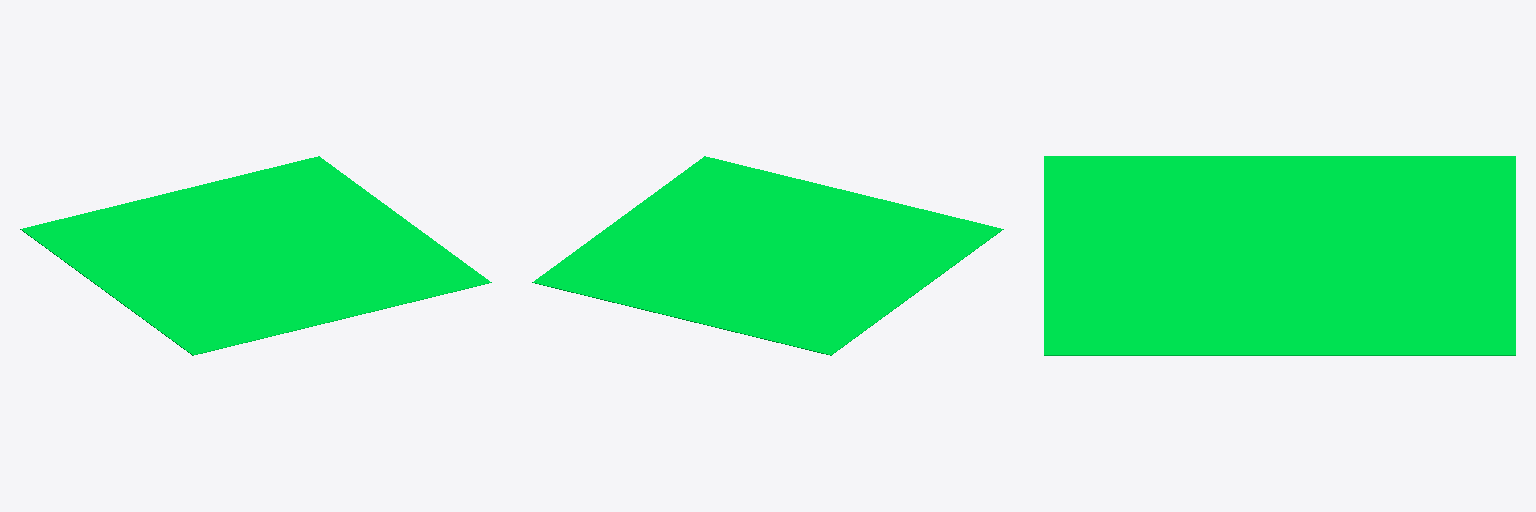
robot.urdf — hook_mark:
<?xml version="0.0" ?>
<robot name="hook_mark">
  <link name="hook_mark">
    <contact>
      <lateral_friction value="0.7"/>
      <rolling_friction value="0.0"/>
      <contact_cfm value="0.0"/>
      <contact_erp value="0.1"/>
    </contact>
    <inertial>
      <origin rpy="0 0 0" xyz="0 0 0"/>
       <mass value=".01"/>
       <inertia ixx=".01" ixy="0" ixz="0" iyy=".01" iyz="0" izz=".01"/>
    </inertial>
    <visual>
      <origin rpy="0 0 0" xyz="0.0 0.0 0.0"/>
      <geometry>
        <box size="0.5 0.5 0.001"/>
      </geometry>
      <material name="desert sand">
        <color rgba="0 1 0.365 1" />
      </material>
    </visual>
    <collision>
      <origin rpy="0 0 0" xyz="0.0 0.0 0.0"/>
      <geometry>
        <box size="0.5 0.5 0.001"/>
      </geometry>
    </collision>
  </link>


</robot>

--- What the picture shows (computed from the rendered views, not written in the file) ---
3 views of the same robot in one strip: view 1: azimuth 30°, elevation 25°; view 2: azimuth 150°, elevation 25°; view 3: azimuth 270°, elevation 25° (orthographic).
Model hook_mark with 1 links and 0 joints (none), rooted at hook_mark, posed all joints at 0.
Links seen in each view (by area): view 1: hook_mark; view 2: hook_mark; view 3: hook_mark.
Boxes of the visible links, <box> form: hook_mark: <box>20,156,491,355</box>; hook_mark: <box>532,156,1003,355</box>; hook_mark: <box>1044,156,1515,355</box>.
Size in the robot's own frame: 0.5 by 0.5 by 0.001 metres.
Geometry: primitives only (box / cylinder / sphere), no mesh files.
